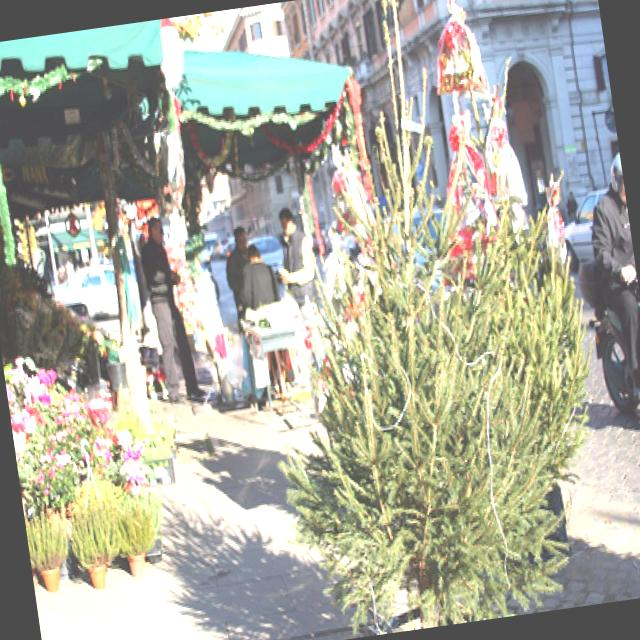Vehicle: (578, 255, 640, 414), (559, 186, 622, 275), (50, 263, 121, 324), (246, 234, 286, 276), (208, 238, 233, 262)
